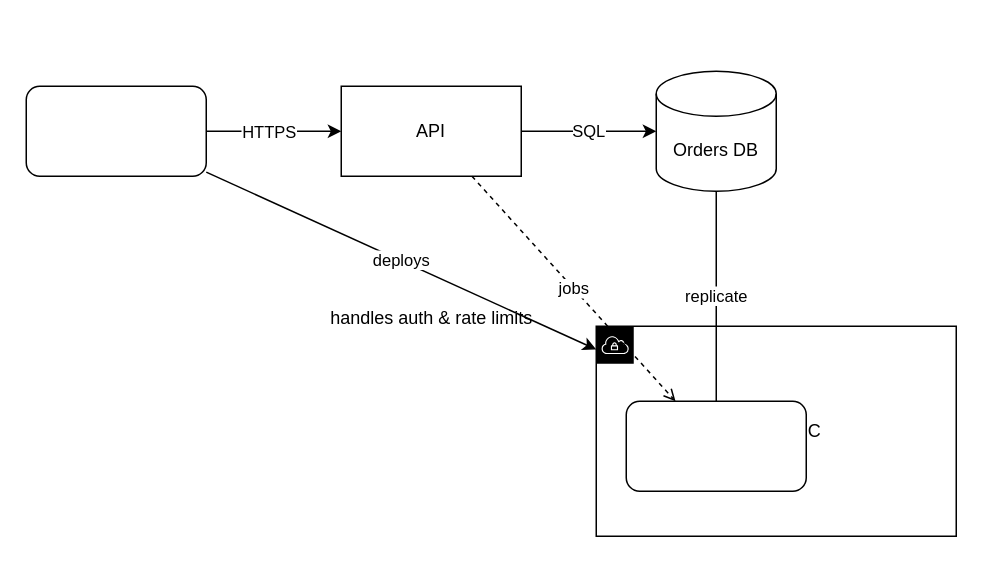
This 983x563 diagram has some shape labels left out. Here are the shapes that lost their labels. From the top down, the centre of each, then its label:
At point 115,130: "Web Client".
At point 715,445: "Worker".
